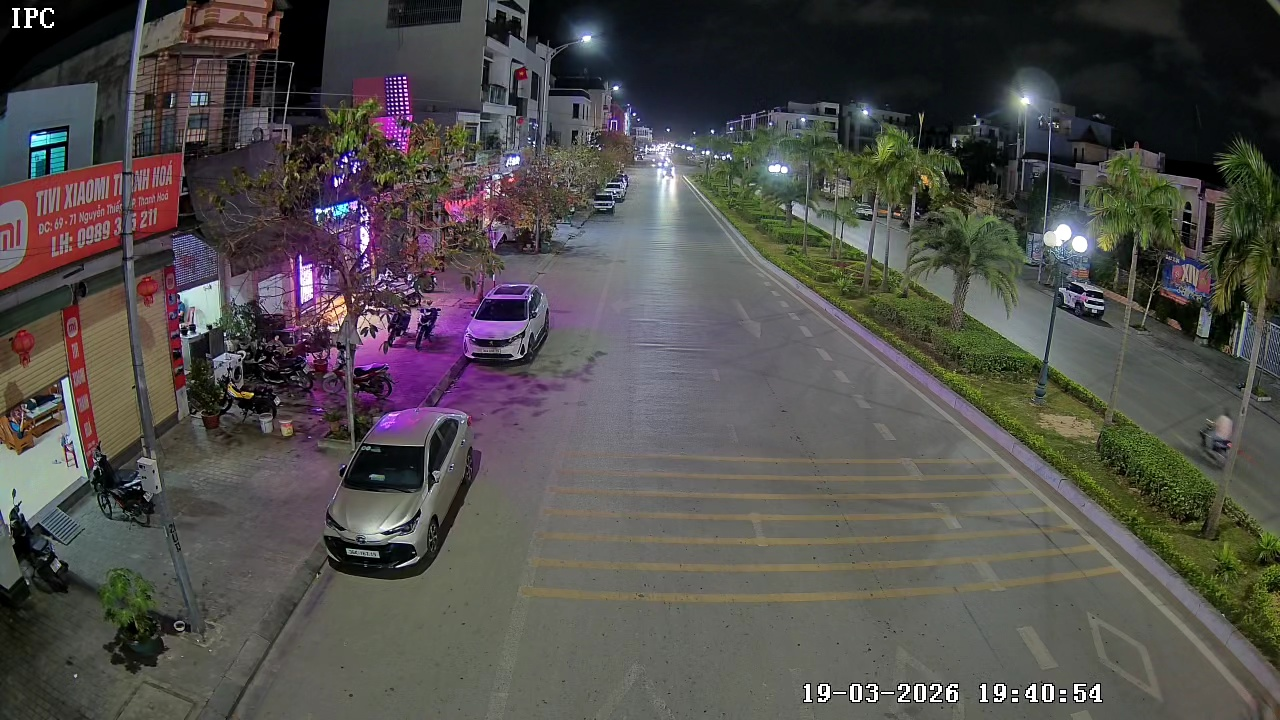car: (323, 405, 482, 576), (464, 282, 551, 364), (589, 185, 618, 216)
motorbike: (1197, 411, 1236, 468)
